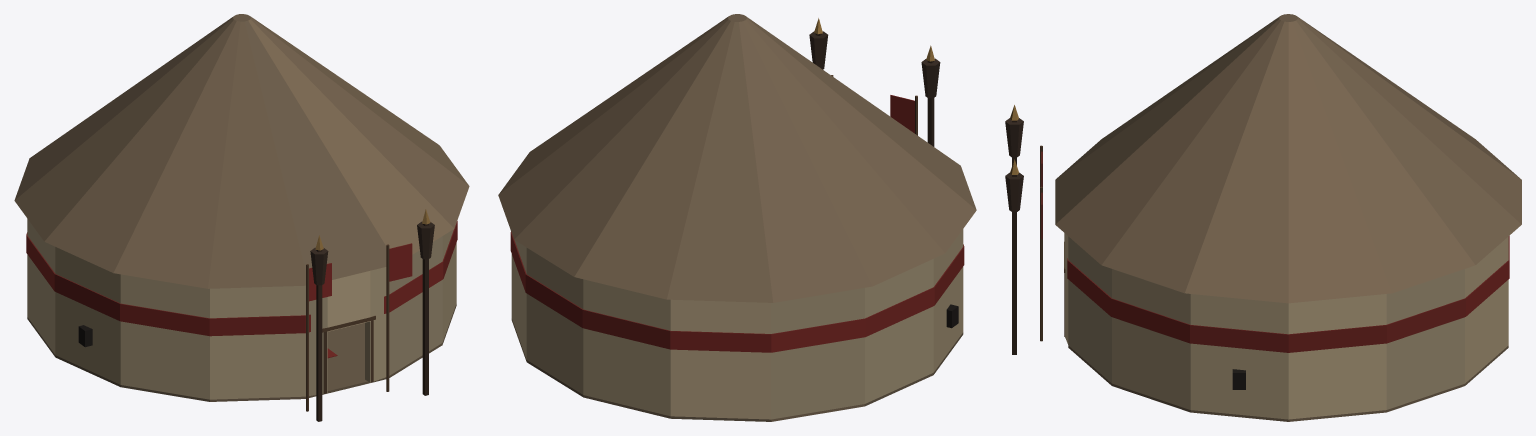
File: walk_steppe_hall.glb
The picture shows the model from 3 angles, left to right: view 1: azimuth 30°, elevation 25°; view 2: azimuth 150°, elevation 25°; view 3: azimuth 270°, elevation 25°; orthographic projection. The views are drawn at different scales.
Visible parts, largest first — view 1: walk_steppe_hall_roof, walk_steppe_hall; view 2: walk_steppe_hall_roof, walk_steppe_hall; view 3: walk_steppe_hall_roof, walk_steppe_hall.
Boxes of the visible parts, box(x1,y1,x2,y2) form: walk_steppe_hall_roof: box(14, 14, 469, 288); walk_steppe_hall: box(26, 209, 457, 421); walk_steppe_hall_roof: box(498, 14, 976, 302); walk_steppe_hall: box(510, 18, 964, 421); walk_steppe_hall_roof: box(1055, 14, 1521, 303); walk_steppe_hall: box(1005, 105, 1509, 421).
Size of what is drawn, in the model's own units: 17.8 by 12.66 by 19.22.
Materials: 2 (2 with a texture image).
